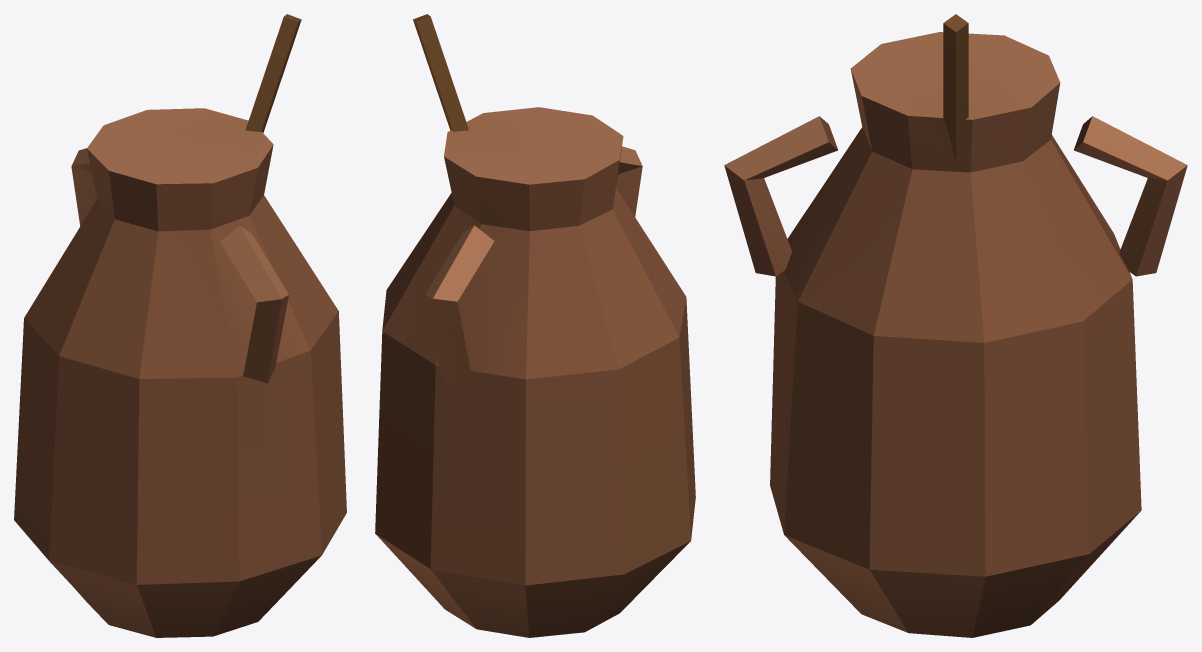
File: oiljar.glb
3 views of the same model, side by side, from view 1: azimuth 30°, elevation 25°; view 2: azimuth 150°, elevation 25°; view 3: azimuth 270°, elevation 25° (orthographic). The views are drawn at different scales.
Parts seen in each view (by area): view 1: base; view 2: base; view 3: base.
Boxes of the visible parts, x1,y1,x2,y2 form: base: (14, 14, 346, 637); base: (375, 14, 695, 637); base: (724, 14, 1187, 637).
Size of the model in its own units: 0.1778 by 0.3322 by 0.2189.
